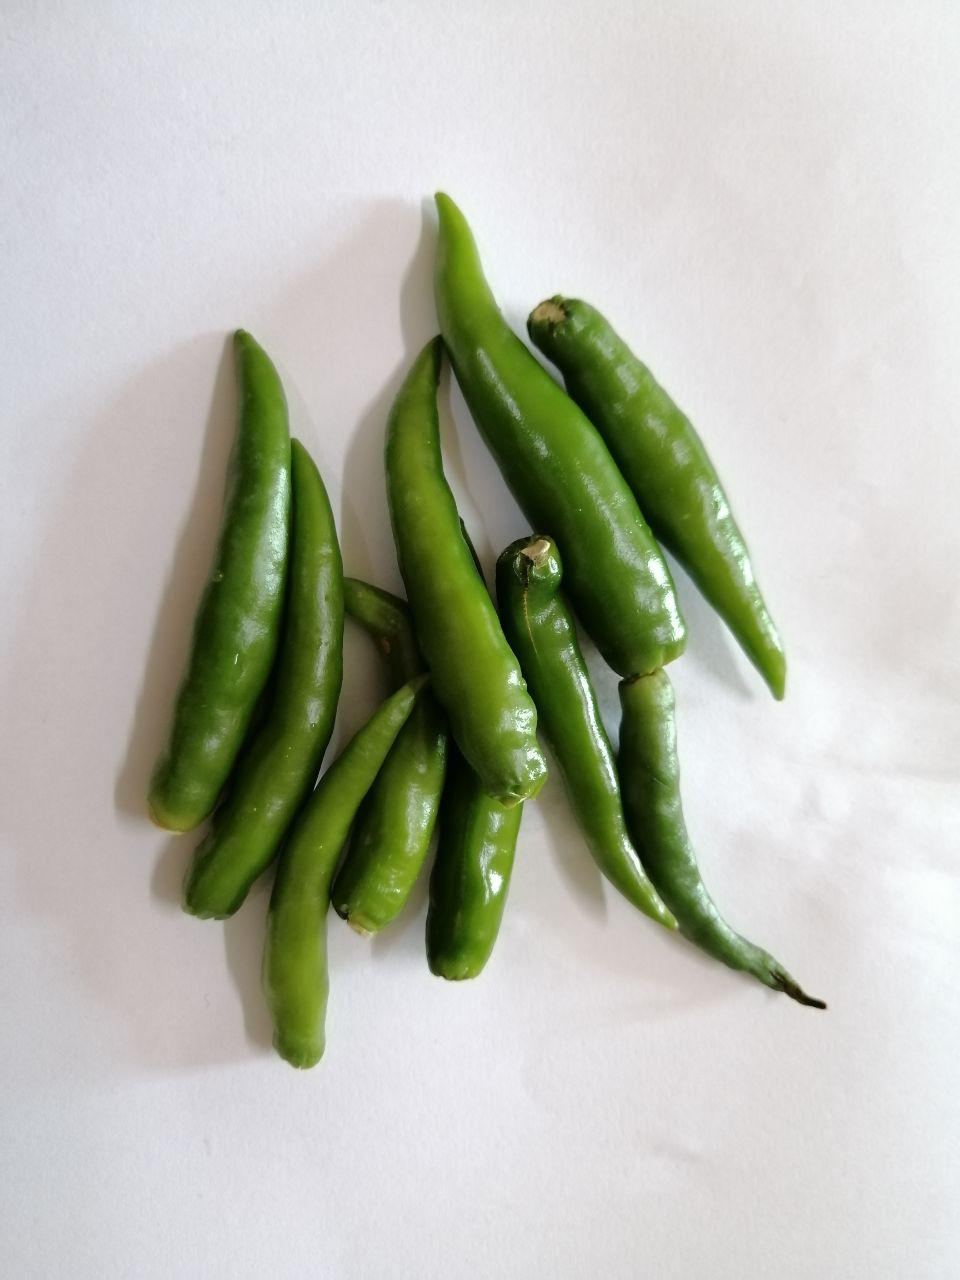lada hijau: (408, 182, 735, 733), (512, 266, 810, 714), (569, 653, 875, 1037), (169, 429, 361, 951), (141, 312, 302, 859), (255, 665, 428, 1072), (422, 703, 543, 1006)
